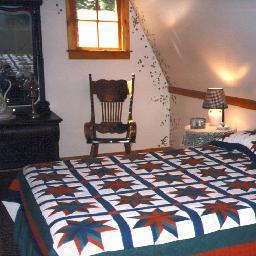Cama: (13, 133, 250, 250)
